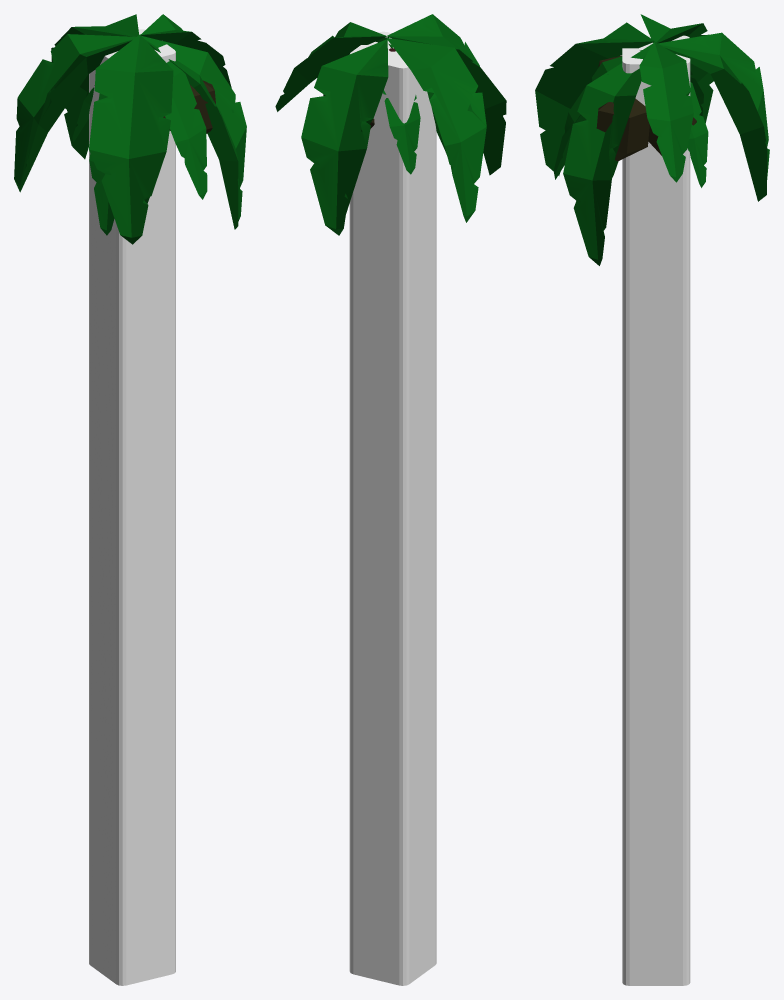
File: Palm1.1.fbx
3 renders of one model, left to right at view 1: azimuth 30°, elevation 25°; view 2: azimuth 150°, elevation 25°; view 3: azimuth 270°, elevation 25°, orthographic.
Parts seen in each view (by area): view 1: Building, Sphere.002; view 2: Building, Sphere.002; view 3: Building, Sphere.002.
Part boxes in pixels (<box>): Building: <box>89,29,175,985</box>; Sphere.002: <box>14,14,246,244</box>; Building: <box>349,31,436,985</box>; Sphere.002: <box>275,14,506,235</box>; Building: <box>622,35,690,985</box>; Sphere.002: <box>535,14,769,265</box>.
Size of the model in its own units: 696 by 3039 by 693.
